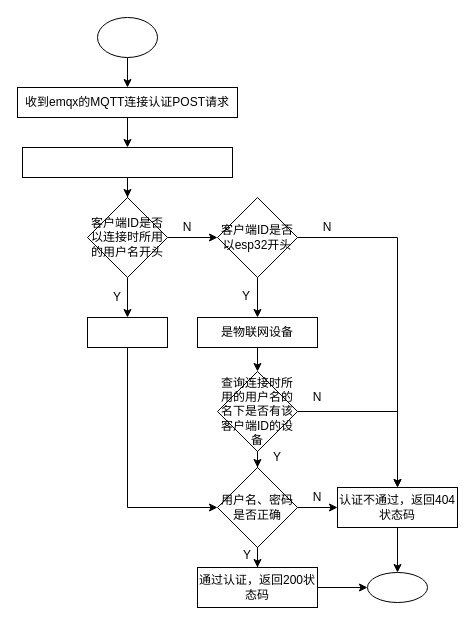
Some shapes in this 475 by 625 pixel diagram are drawn without their labels. Each missing label, with the centre of its shape:
"开始" goes at point 127,37.
"是网页" goes at point 127,332.
"结束" goes at point 397,587.
"获取请求体的JSON并反序列化" goes at point 127,162.
